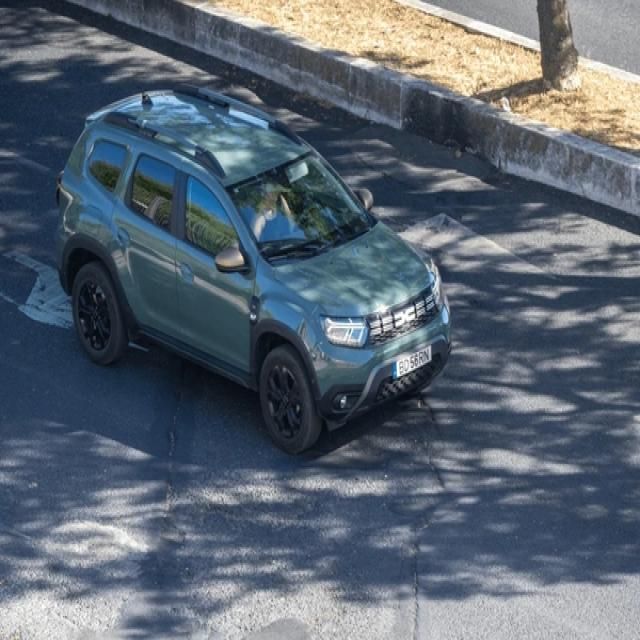dacia: (393, 303, 418, 329)
